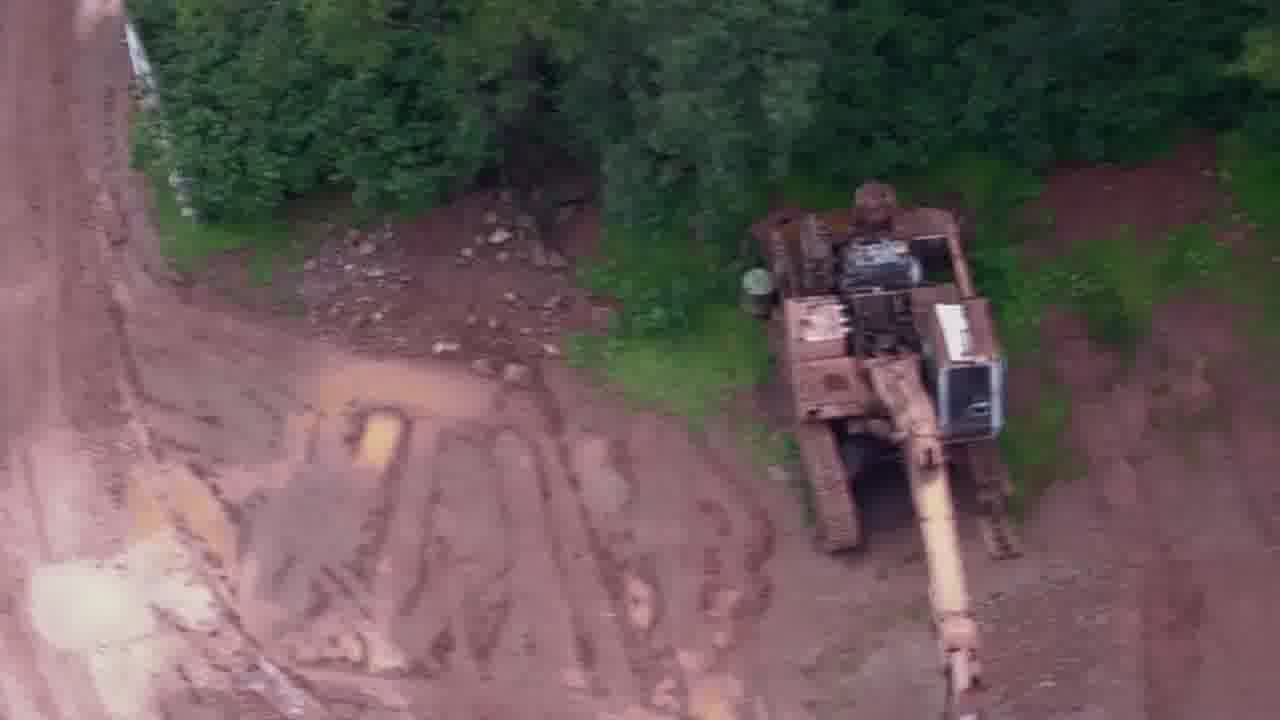HMV: (741, 173, 1020, 720)
